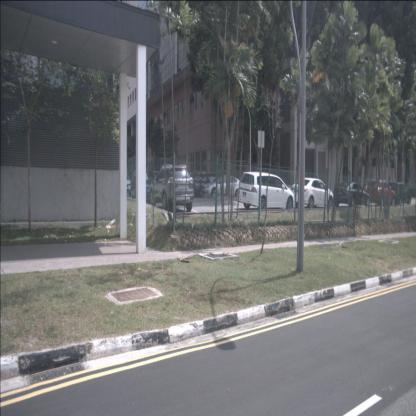vehicle-car: (239, 170, 295, 212), (150, 164, 193, 214), (289, 177, 334, 210), (201, 172, 241, 200), (334, 182, 370, 209), (130, 171, 159, 200), (188, 172, 219, 199), (365, 180, 395, 207), (387, 183, 411, 206), (116, 172, 132, 198)
